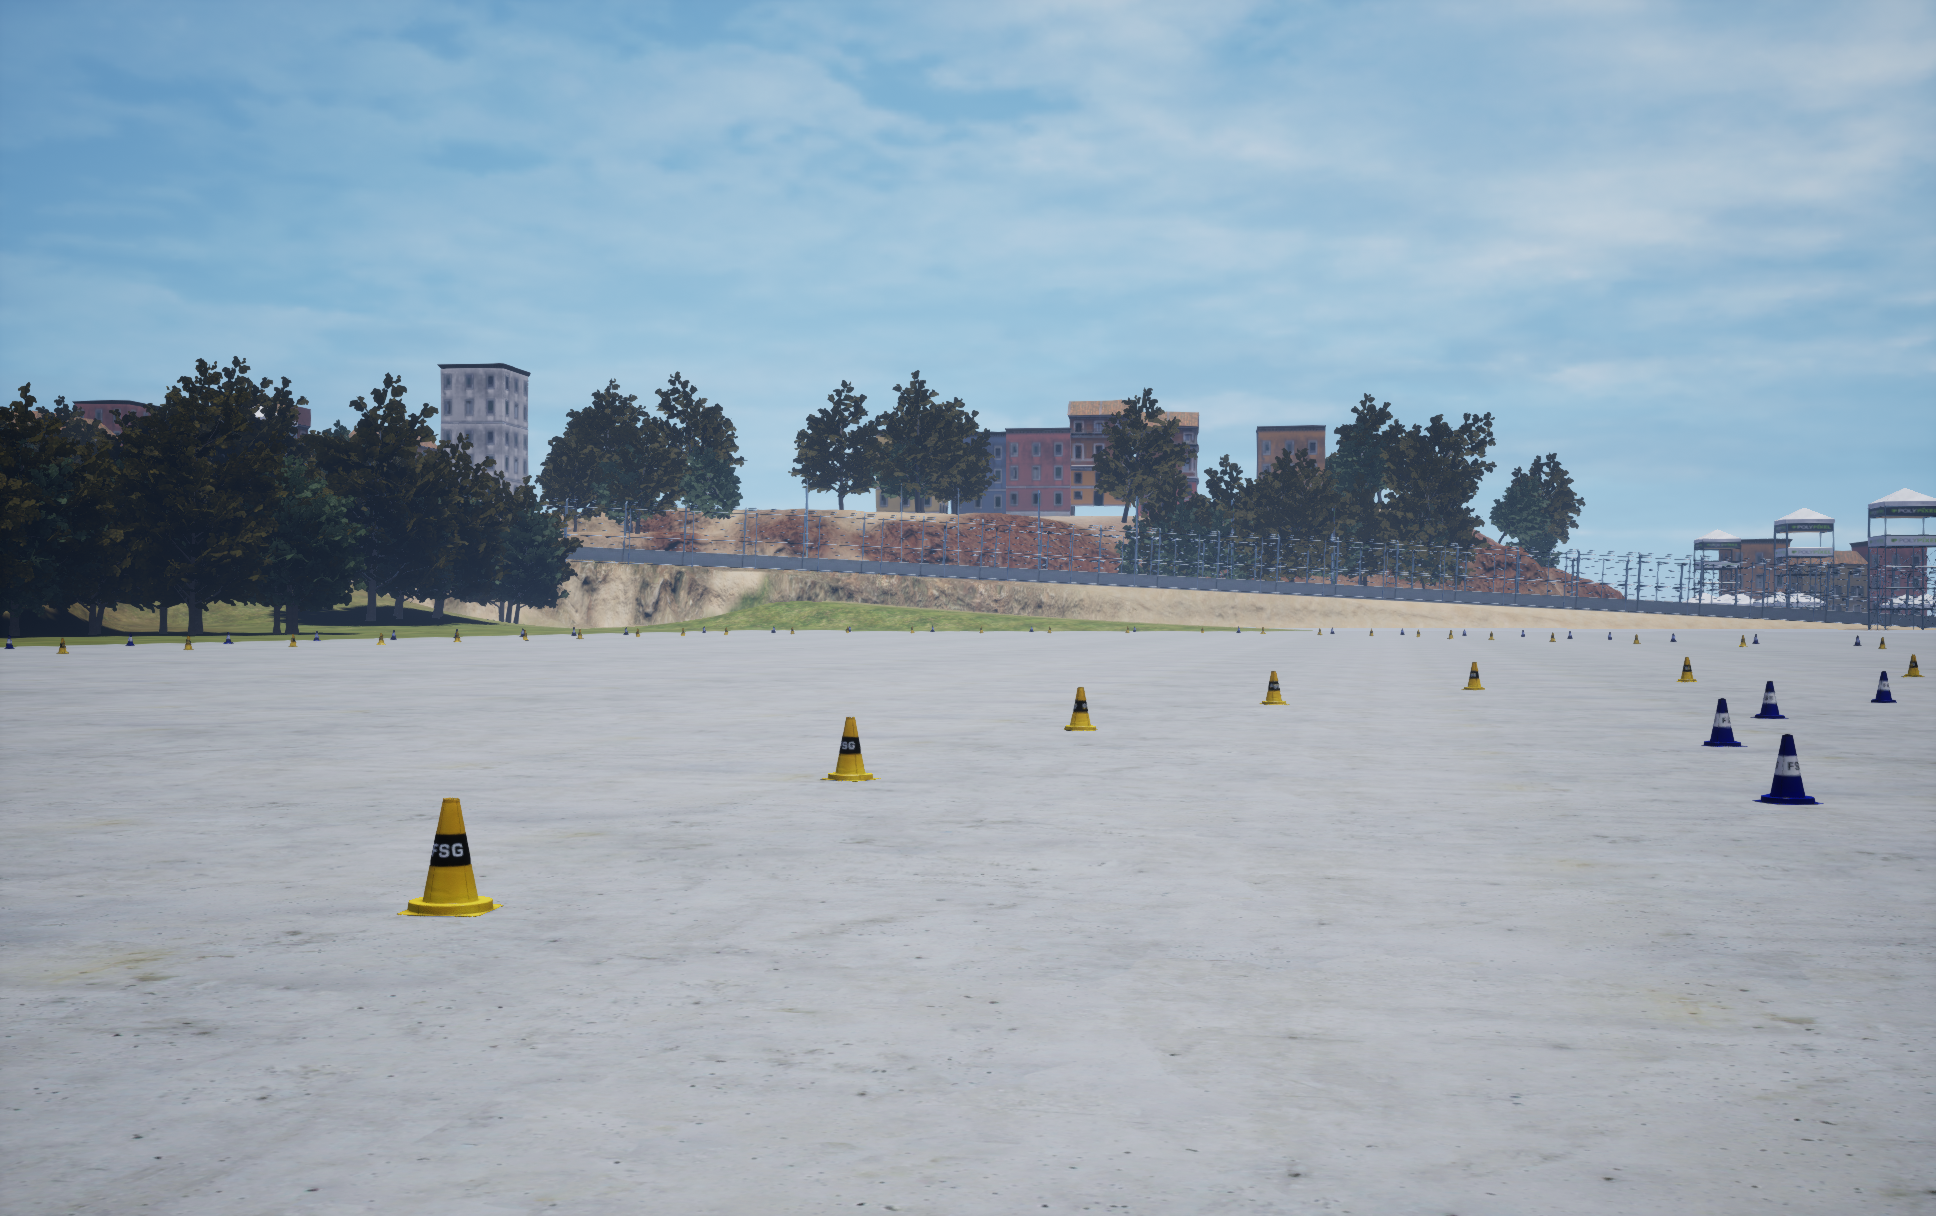blue: (396, 799, 503, 916), (820, 717, 880, 780), (1065, 686, 1097, 730), (1259, 671, 1289, 705), (1461, 663, 1484, 689), (1901, 654, 1923, 677), (1675, 657, 1696, 681)
yellow: (1752, 734, 1823, 804), (1701, 698, 1747, 747), (1750, 681, 1788, 719), (1872, 671, 1895, 702)
